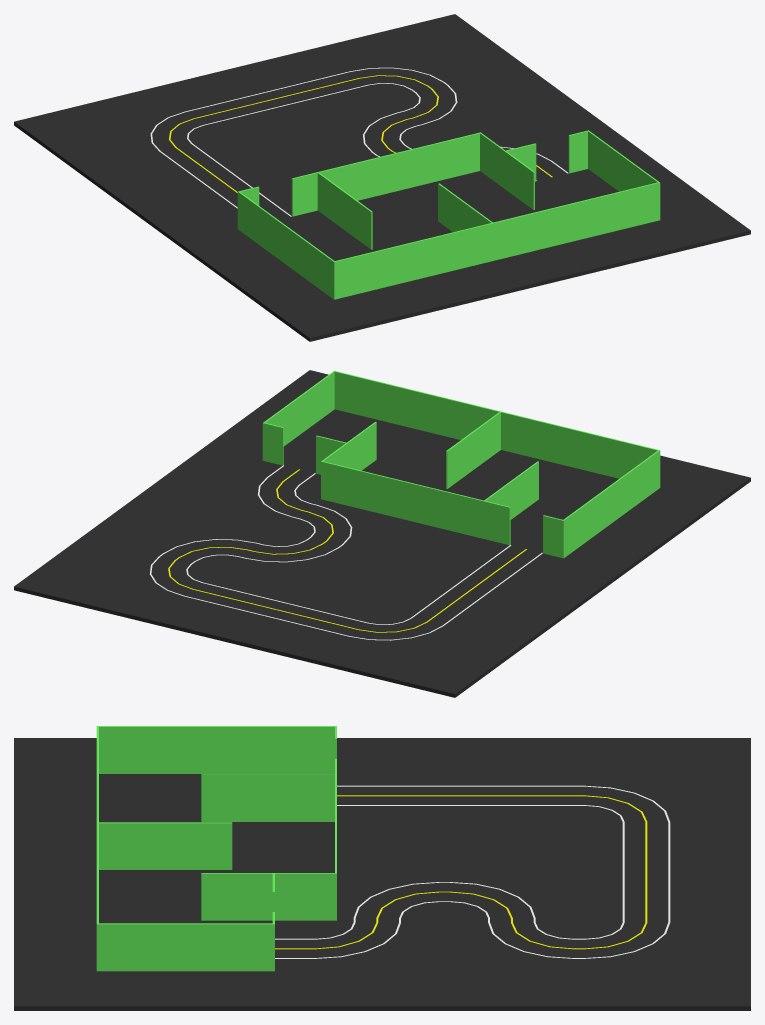
Rendered from field1.dae.
3 views of the same model, one above another, from view 1: azimuth 30°, elevation 25°; view 2: azimuth 150°, elevation 25°; view 3: azimuth 270°, elevation 25° (orthographic). The views are drawn at different scales.
Visible parts, largest first — view 1: __V2___1_ (×5); view 2: __V2___1_ (×5); view 3: __V2___1_ (×5).
Part boxes in pixels (<box>): __V2___1_ (×5): <box>14,14,750,341</box>; __V2___1_ (×5): <box>14,370,750,697</box>; __V2___1_ (×5): <box>14,726,750,1010</box>.
Bounding box in the file's own units: 6130 × 7120 × 550.
